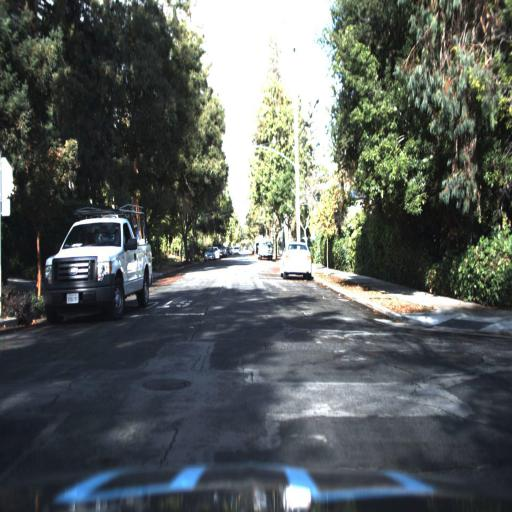car: (28, 182, 164, 337), (278, 236, 316, 284), (255, 230, 278, 264), (200, 242, 218, 264), (202, 245, 216, 263), (232, 243, 243, 256)
